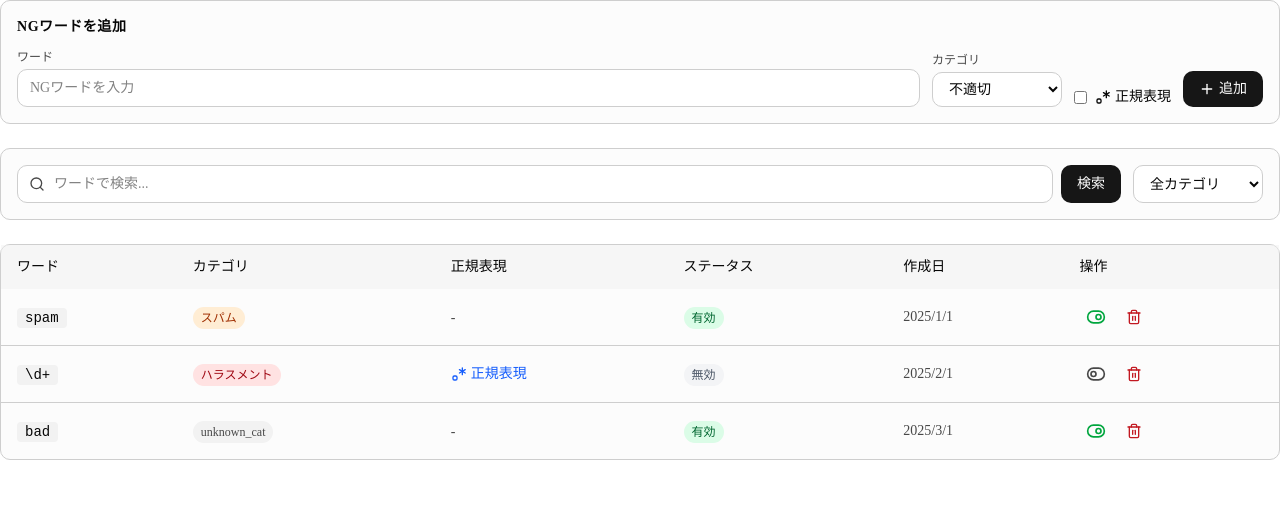
NgWordList › shows error when adding empty word
What coordinates should you click on to do the following:
click the button "追加"
I would click on:
 (1223, 89)
Its box is [1183,71,1263,107].
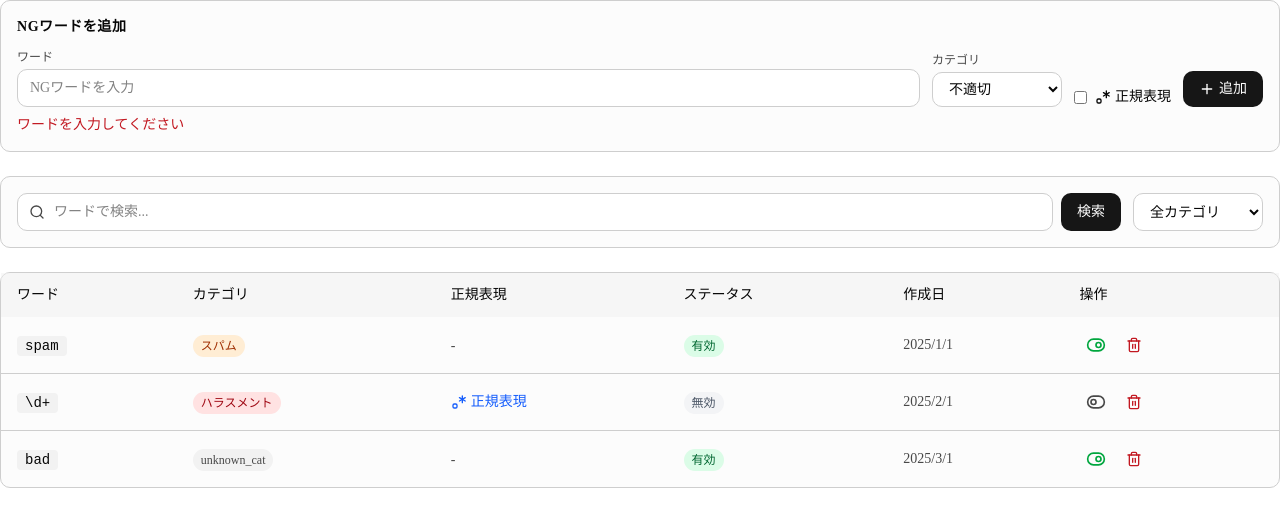
Expected: the text "ワードを入力してください" is shown, [17,117,184,132]
